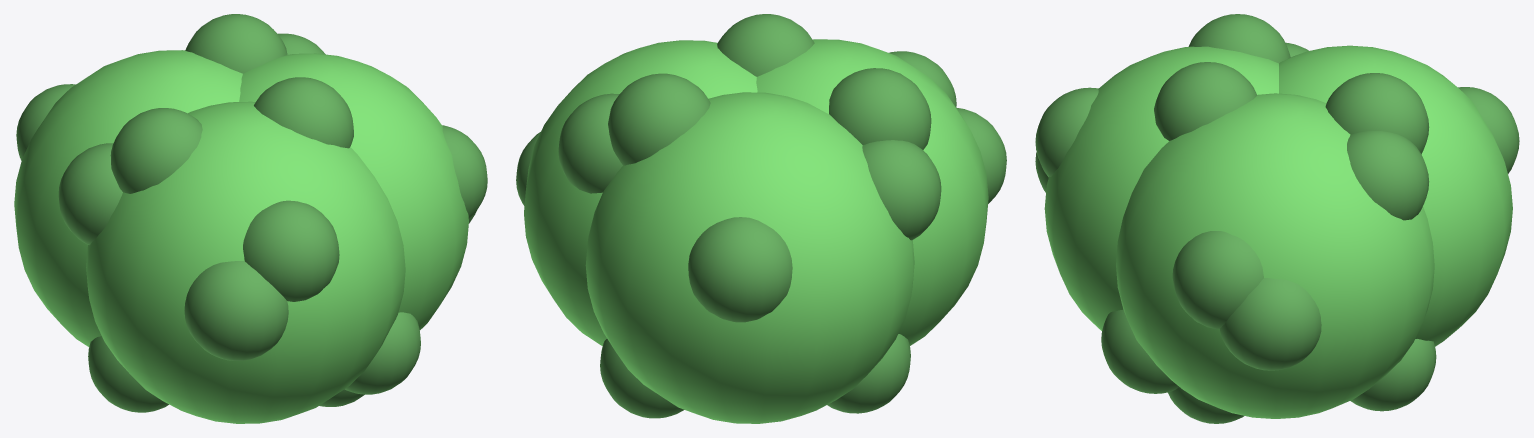
The model's file is GREENBACTERIA.fbx.
3 renders of one model, left to right at view 1: azimuth 30°, elevation 25°; view 2: azimuth 150°, elevation 25°; view 3: azimuth 270°, elevation 25°, orthographic. The views are drawn at different scales.
Parts seen in each view (by area): view 1: bacteria_green; view 2: bacteria_green; view 3: bacteria_green.
Boxes of the visible parts, x1=… form: bacteria_green: x1=14, y1=14, x2=487, y2=423; bacteria_green: x1=516, y1=14, x2=1006, y2=423; bacteria_green: x1=1035, y1=14, x2=1519, y2=423.
Size of the model in its own units: 8.67 by 6.8 by 8.91.
